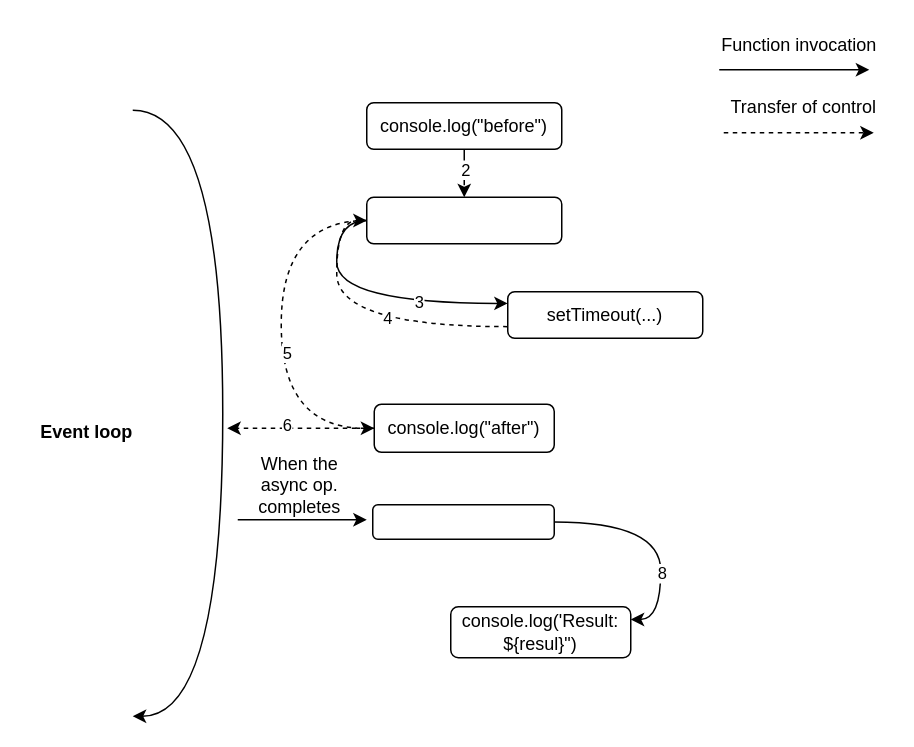
The diagram is 914 pixels wide and 747 high, and some of its shapes have lost their labels. The centre of each missing label's shape, as x and y in pixels:
addAsync(...): point (463, 220)
callback(a+b): point (462, 521)
